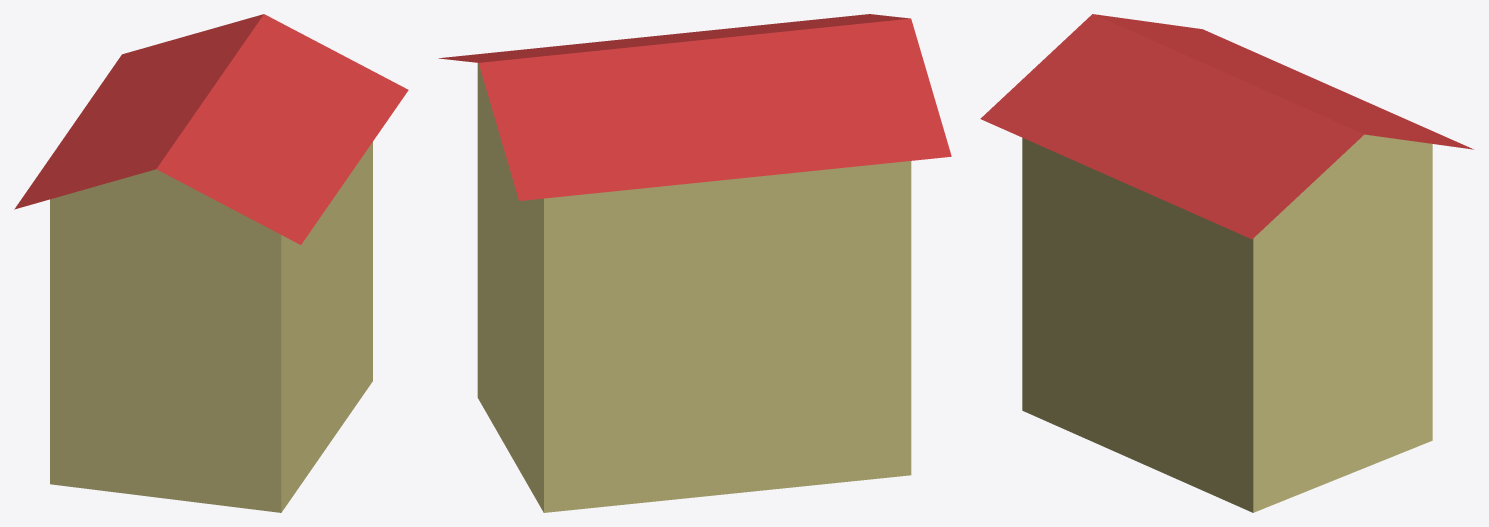
3 views of the same model, side by side, from view 1: azimuth 30°, elevation 25°; view 2: azimuth 150°, elevation 25°; view 3: azimuth 270°, elevation 25° (orthographic). The views are drawn at different scales.
Size of the model in its own units: 16.71 by 16.62 by 13.01.
